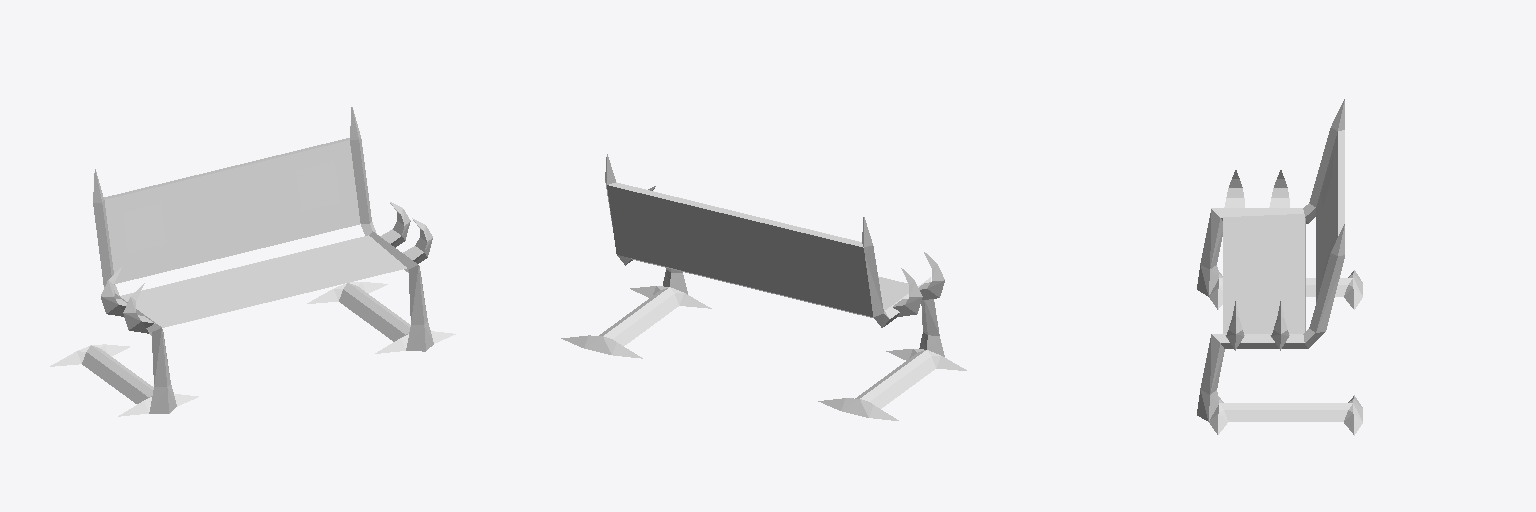
Rendered from stg600_obj_bench.obj.
3 renders of one model, left to right at view 1: azimuth 30°, elevation 25°; view 2: azimuth 150°, elevation 25°; view 3: azimuth 270°, elevation 25°, orthographic.
Parts seen in each view (by area): view 1: polygon0, polygon2, polygon3, polygon4; view 2: polygon1, polygon0, polygon3; view 3: polygon0, polygon3, polygon2.
Part boxes in pixels (x1,y1,x2,y2): polygon0: (50,107,455,416); polygon2: (106,152,360,283); polygon3: (120,235,406,327); polygon4: (123,161,339,252); polygon1: (608,192,873,317); polygon0: (561,154,966,420); polygon3: (878,276,908,310); polygon0: (1197,99,1362,435); polygon3: (1223,214,1304,333); polygon2: (1316,143,1334,301).
Bounding box in the file's own units: 35.1 × 19.11 × 14.9.